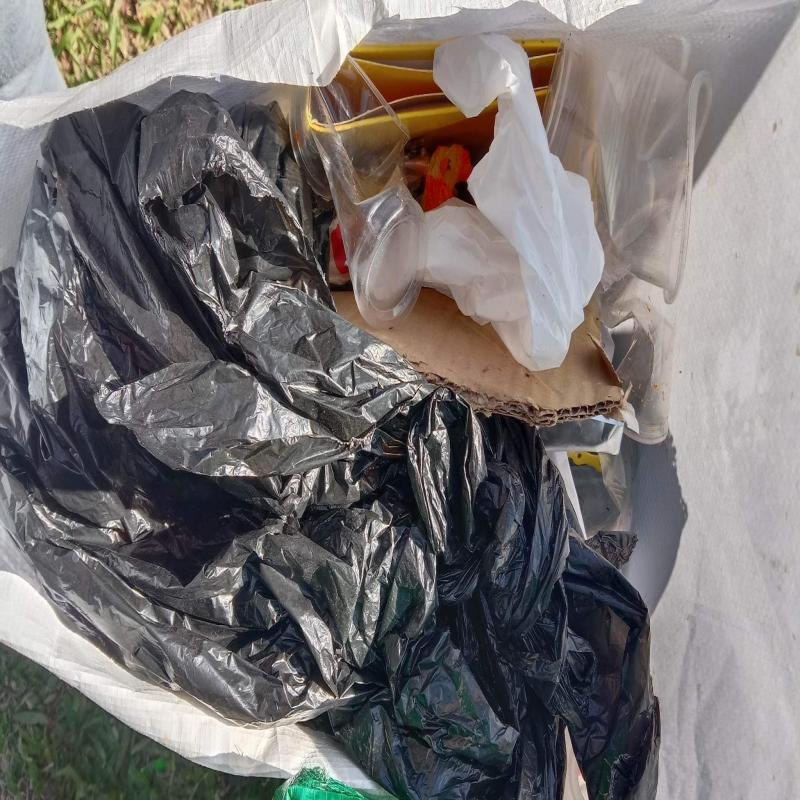cardboard: (331, 288, 623, 428)
paper: (421, 33, 605, 373)
plastic bag: (0, 93, 662, 800)
plastic container: (543, 34, 712, 306), (288, 55, 428, 331)
